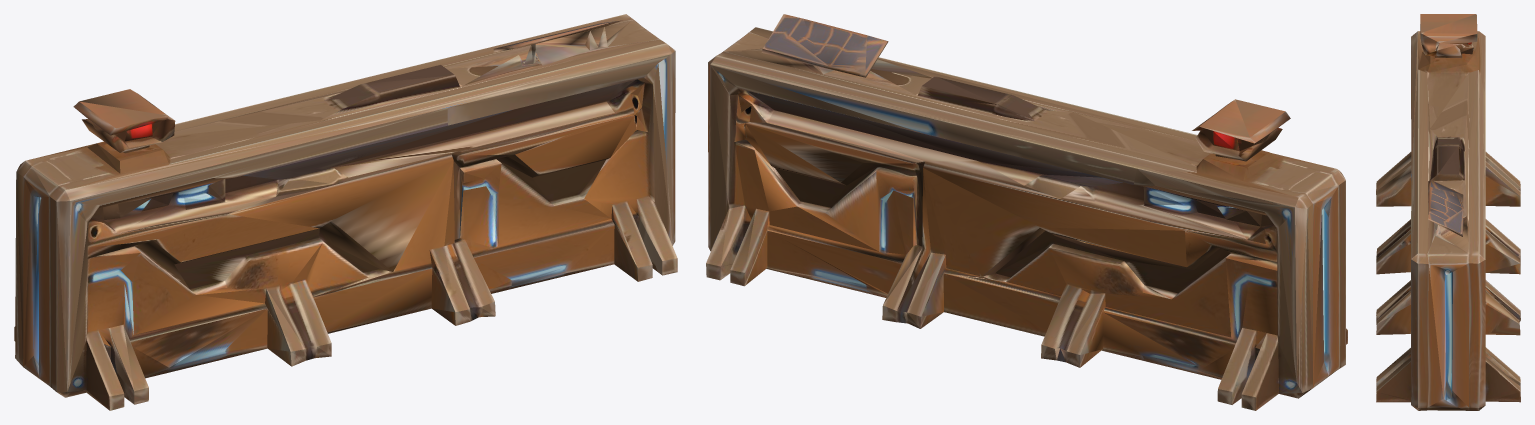
Rendered from muro.fbx.
3 renders of one model, left to right at view 1: azimuth 30°, elevation 25°; view 2: azimuth 150°, elevation 25°; view 3: azimuth 270°, elevation 25°, orthographic. The views are drawn at different scales.
Parts seen in each view (by area): view 1: tripo_node_e7c47234; view 2: tripo_node_e7c47234; view 3: tripo_node_e7c47234.
Part boxes in pixels (x1,y1,x2,y2): tripo_node_e7c47234: [14, 14, 677, 410]; tripo_node_e7c47234: [706, 14, 1347, 410]; tripo_node_e7c47234: [1376, 14, 1520, 410].
Bounding box in the file's own units: 100 × 39.51 × 26.72.
Materials: 1 (1 with a texture image).
